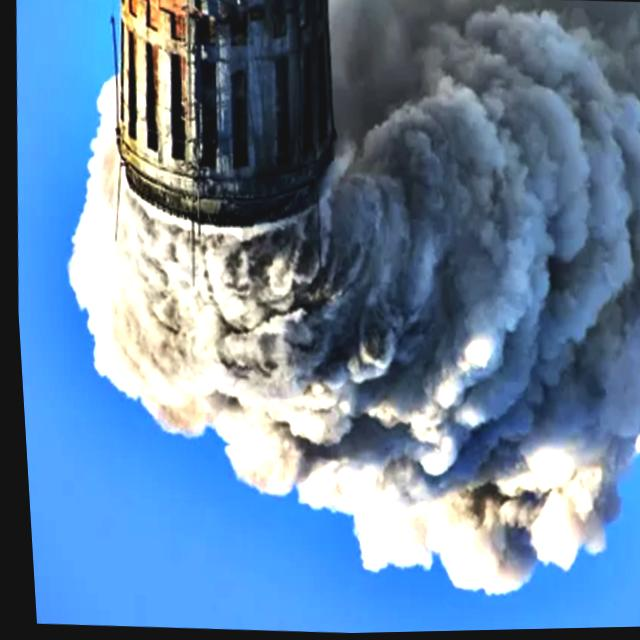Smoke: (37, 21, 640, 612)
